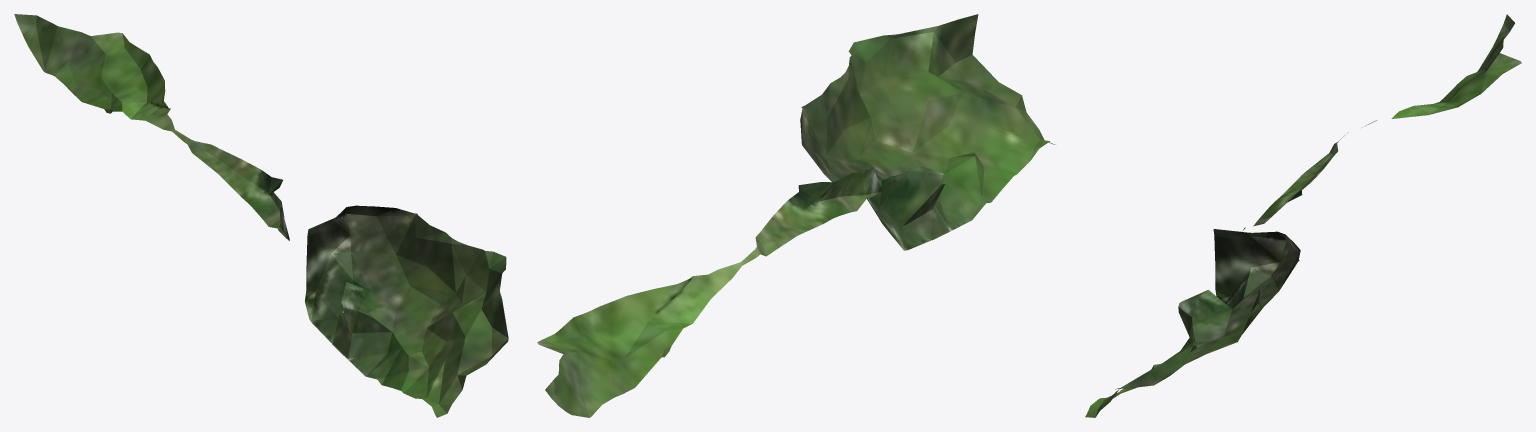
3 renders of one model, left to right at view 1: azimuth 30°, elevation 25°; view 2: azimuth 150°, elevation 25°; view 3: azimuth 330°, elevation 25°, orthographic. The views are drawn at different scales.
Bounding box in the file's own units: 4.04 × 3.38 × 24.61.
1 material, 1 textured.
